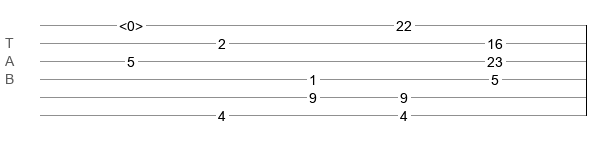1: (309, 72, 317, 82)
16: (487, 36, 503, 46)
2: (218, 36, 226, 46)
22: (396, 18, 412, 28)
23: (487, 54, 503, 64)
4: (218, 108, 226, 118), (400, 108, 408, 118)
5: (127, 54, 135, 64), (491, 72, 499, 82)
9: (309, 90, 317, 100), (400, 90, 408, 100)
harmonic: (119, 18, 143, 28)
